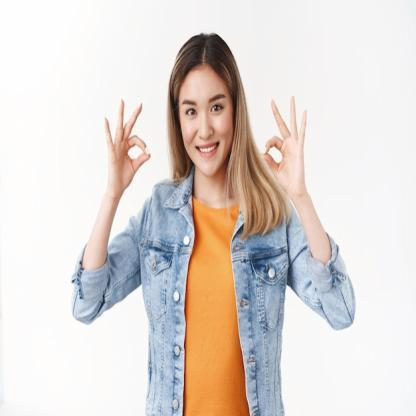ok: (258, 90, 312, 196), (100, 96, 152, 190)
